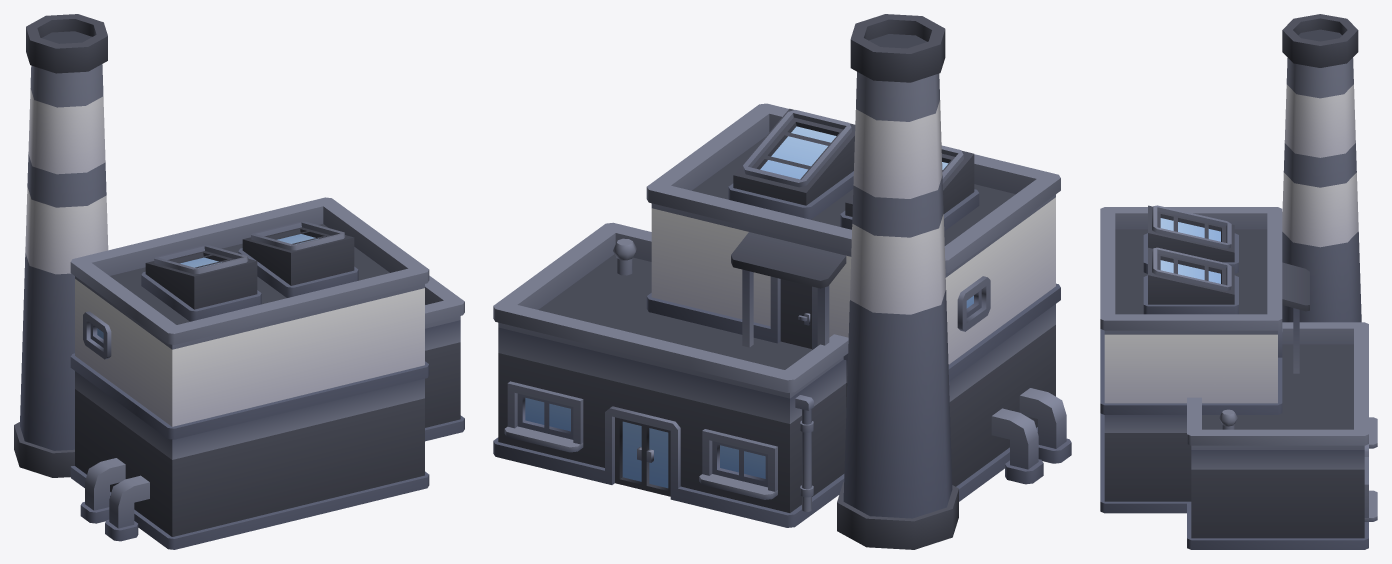
File: building-f.fbx
3 views of the same model, side by side, from view 1: azimuth 30°, elevation 25°; view 2: azimuth 150°, elevation 25°; view 3: azimuth 270°, elevation 25° (orthographic). The views are drawn at different scales.
Visible parts, largest first — view 1: building-f; view 2: building-f; view 3: building-f.
Part boxes in pixels (left/top/right/bottom): building-f: left=14, top=14, right=464, bottom=549; building-f: left=493, top=14, right=1071, bottom=549; building-f: left=1100, top=14, right=1377, bottom=549.
Size of the model in its own units: 179 by 193 by 128.
Materials: 1 (1 with a texture image).
